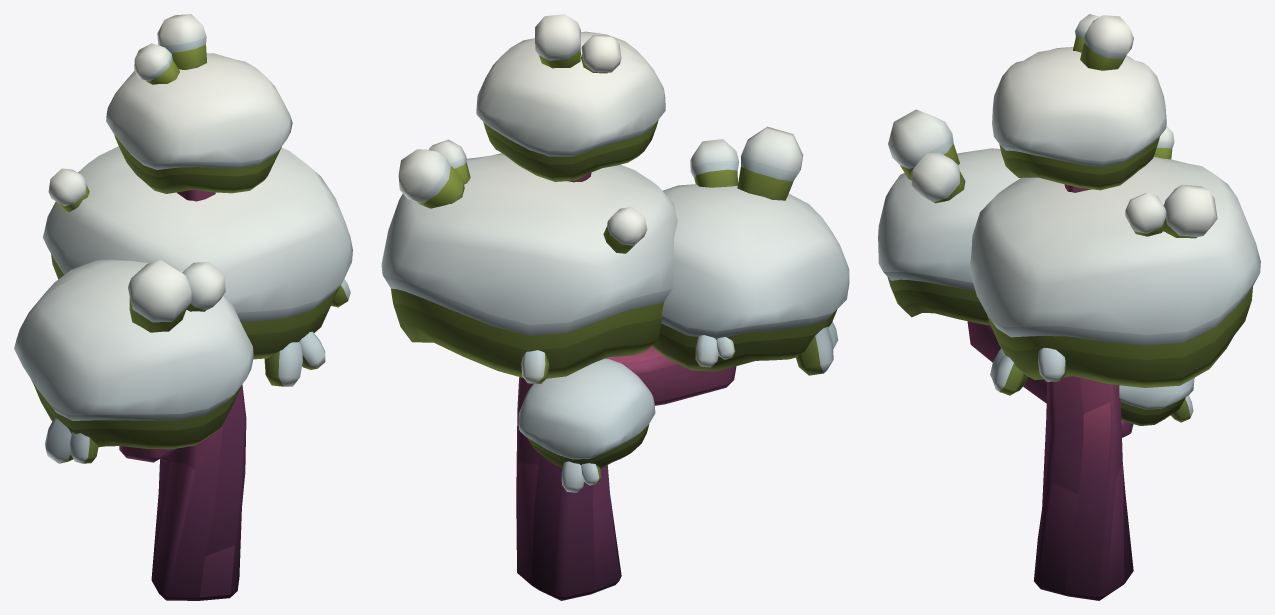
Rendered from grassland_tree_col1_4_snow.fbx.
3 renders of one model, left to right at view 1: azimuth 30°, elevation 25°; view 2: azimuth 150°, elevation 25°; view 3: azimuth 270°, elevation 25°, orthographic. The views are drawn at different scales.
Visible parts, largest first — view 1: grassland_tree_col1_4_snow; view 2: grassland_tree_col1_4_snow; view 3: grassland_tree_col1_4_snow.
Part boxes in pixels (<box>): grassland_tree_col1_4_snow: <box>14,14,352,600</box>; grassland_tree_col1_4_snow: <box>381,14,849,600</box>; grassland_tree_col1_4_snow: <box>878,14,1260,600</box>.
Bounding box in the file's own units: 673 × 1035 × 635.
1 material, 1 textured.
